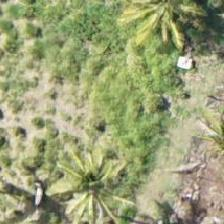Kelapa_Sawit: (50, 140, 140, 224), (115, 0, 205, 49)
